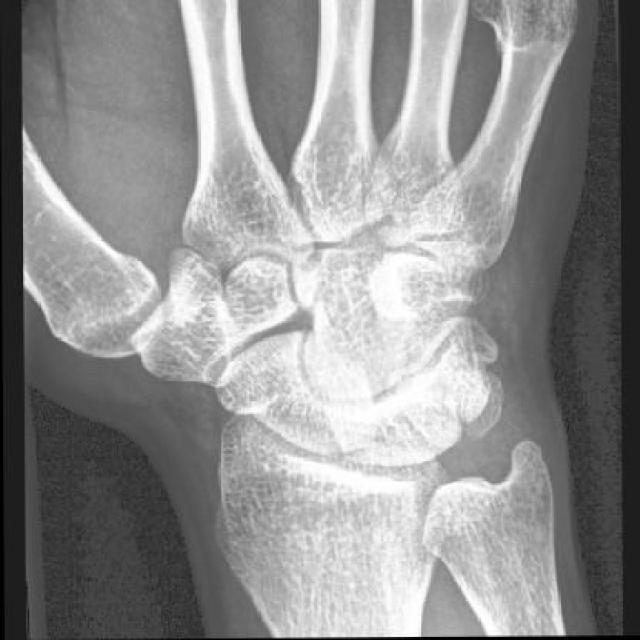Fracture: (422, 325, 506, 393)
